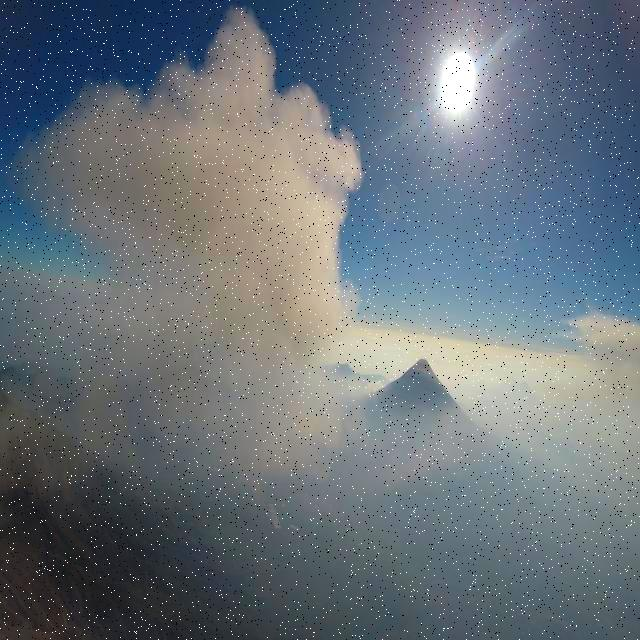Plume: (9, 5, 364, 502)
